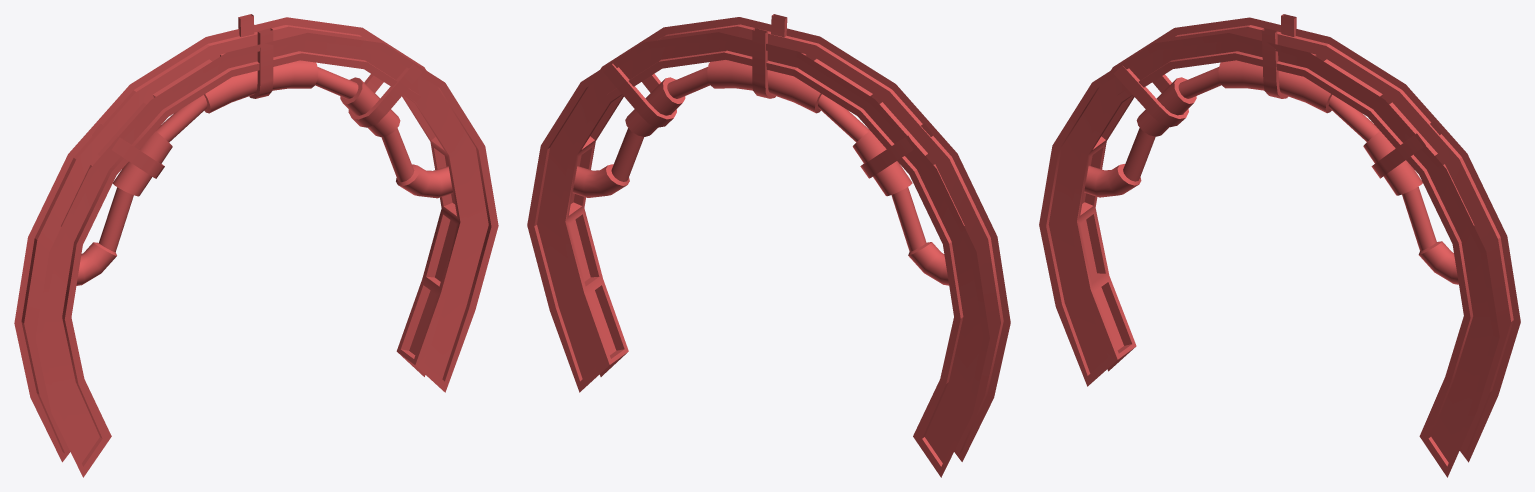
File: M_Tunnelarc1.FBX
3 renders of one model, left to right at view 1: azimuth 30°, elevation 25°; view 2: azimuth 150°, elevation 25°; view 3: azimuth 330°, elevation 25°, orthographic.
Parts seen in each view (by area): view 1: tunnelarc1; view 2: tunnelarc1; view 3: tunnelarc1.
Part boxes in pixels (bbox=[...]): tunnelarc1: bbox=[14, 14, 498, 477]; tunnelarc1: bbox=[527, 14, 1010, 477]; tunnelarc1: bbox=[1039, 14, 1520, 477].
Bounding box in the file's own units: 211 × 177 × 17.49.
